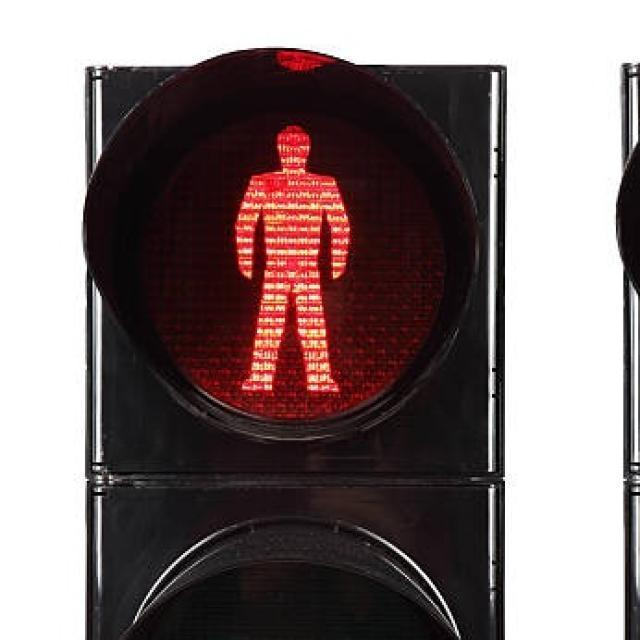red-crossing: (210, 100, 370, 403)
